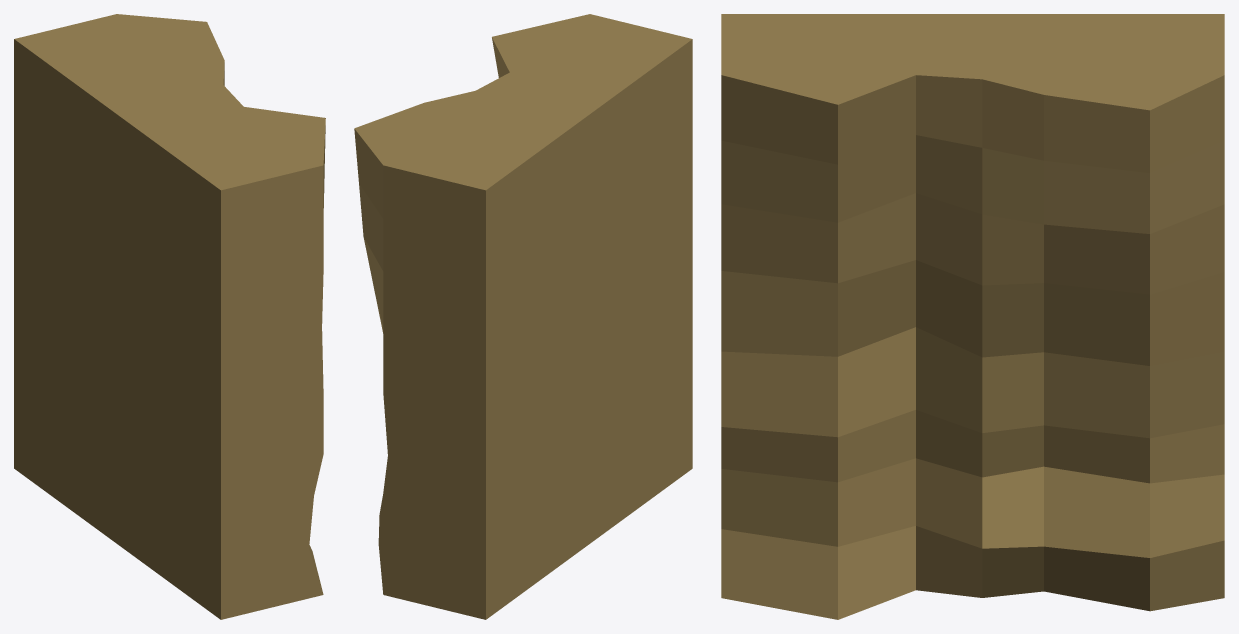
Rendered from Cliff_1.fbx.
3 renders of one model, left to right at view 1: azimuth 30°, elevation 25°; view 2: azimuth 150°, elevation 25°; view 3: azimuth 270°, elevation 25°, orthographic. The views are drawn at different scales.
Parts seen in each view (by area): view 1: Cliff; view 2: Cliff; view 3: Cliff.
Boxes of the visible parts, bbox=[...] form: Cliff: bbox=[14, 14, 325, 619]; Cliff: bbox=[354, 14, 692, 619]; Cliff: bbox=[721, 14, 1224, 619].
Size of the model in its own units: 15.17 by 38.36 by 33.47.
